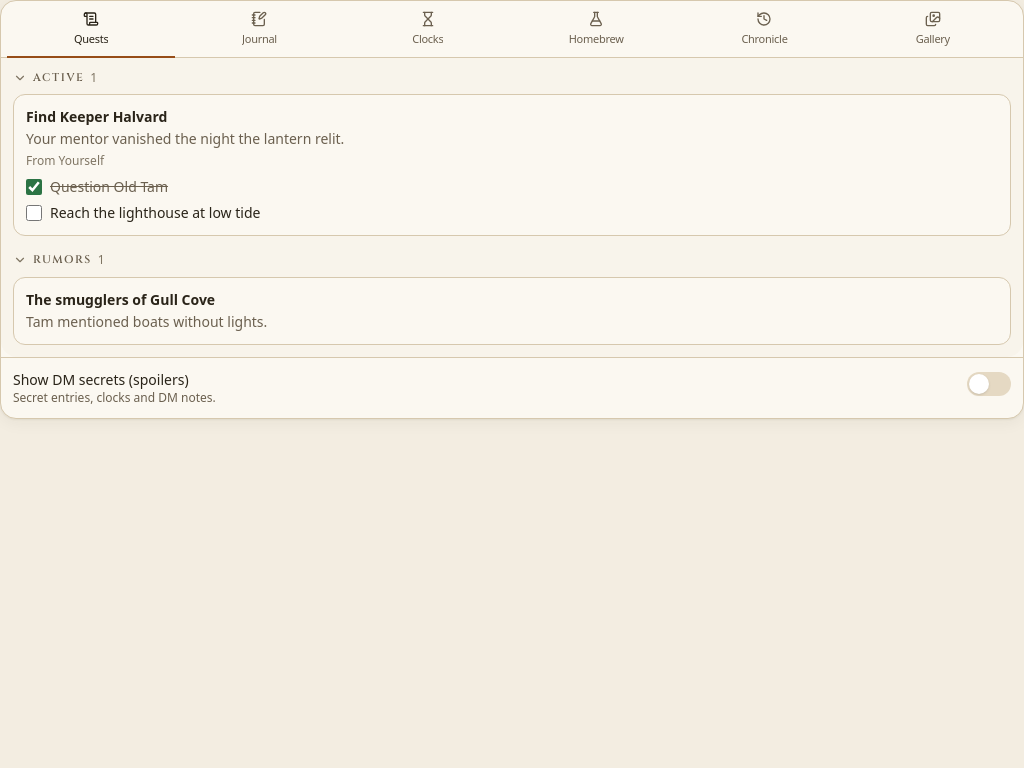
Test: JournalPanel › filters the journal
Click the tab "Journal": (259, 31) [175,5,344,58]
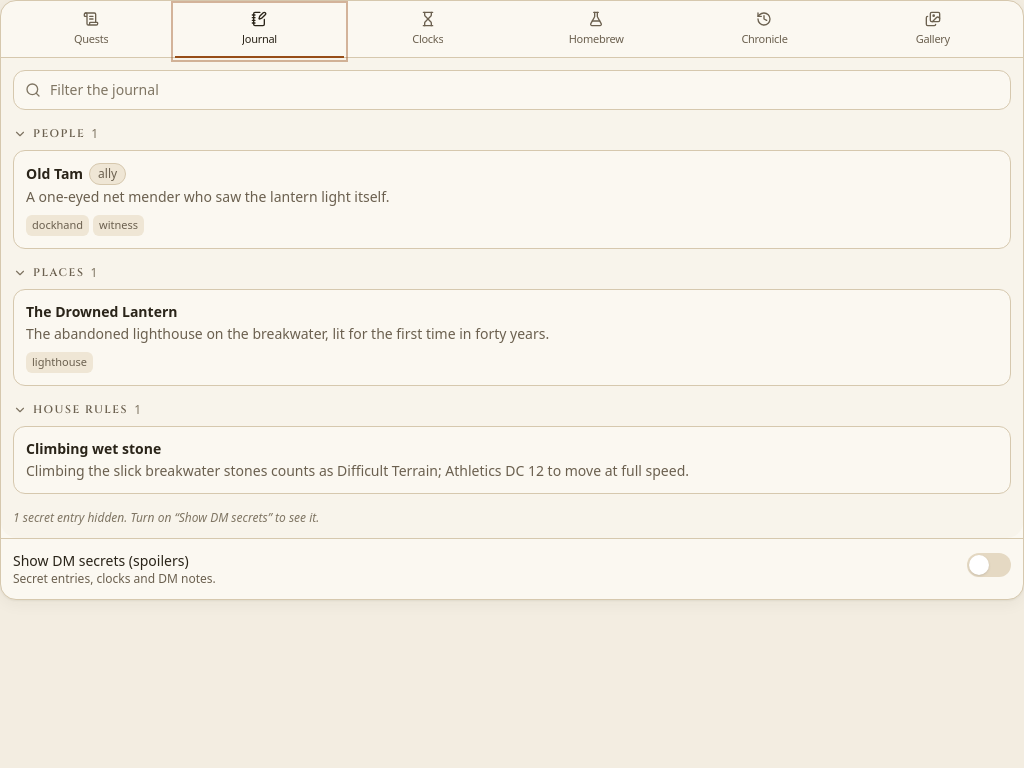
In the search field labelled "Filter the journal": (512, 90) [13,70,1011,110], type "lighthouse"
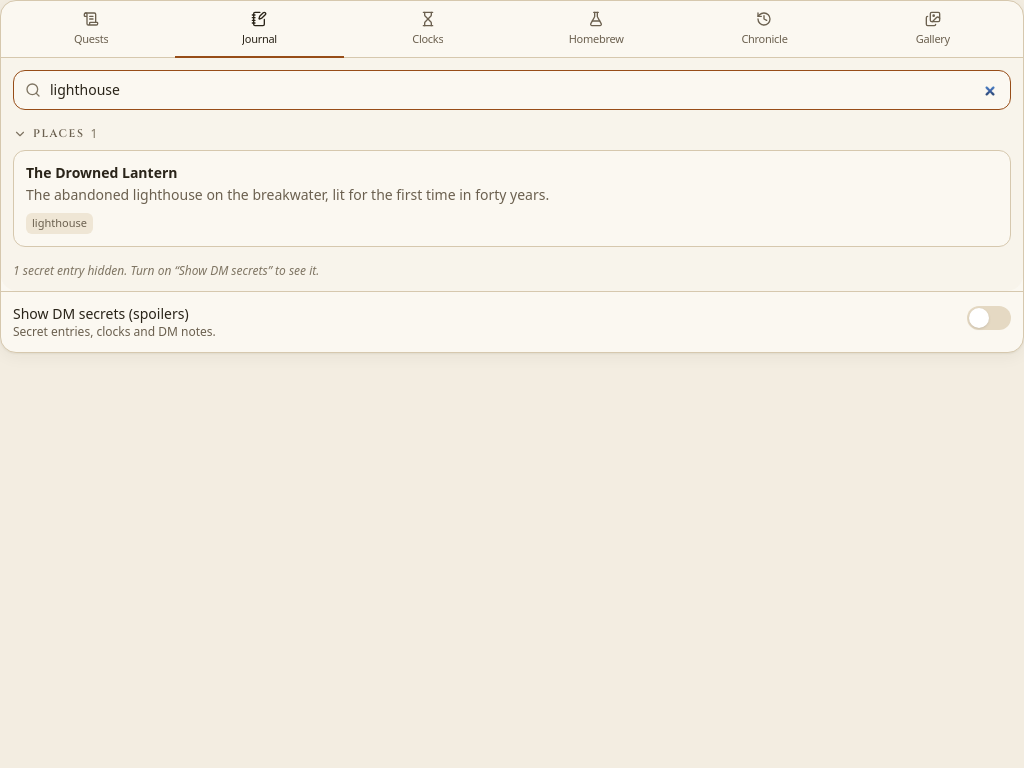
Result: the heading "The Drowned Lantern" is shown at [26,163,178,183]
Result: the heading "Old Tam" is gone
